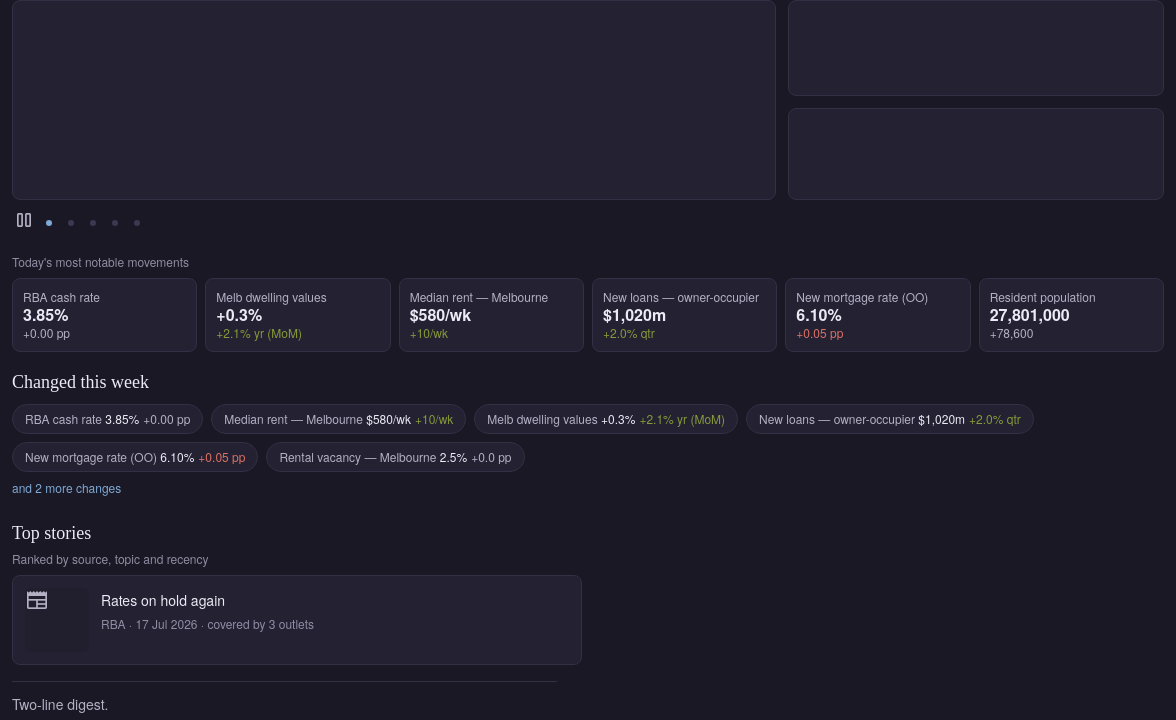
Test case: headline conveyor › reduced motion: no auto-advance, manual controls still work
The width and height of the screenshot is (1176, 720).
What coordinates should you click on to do the following:
click the button named "Show finding 2 of 5"
I would click on:
 (71, 223)
Its box is [62, 214, 80, 232].
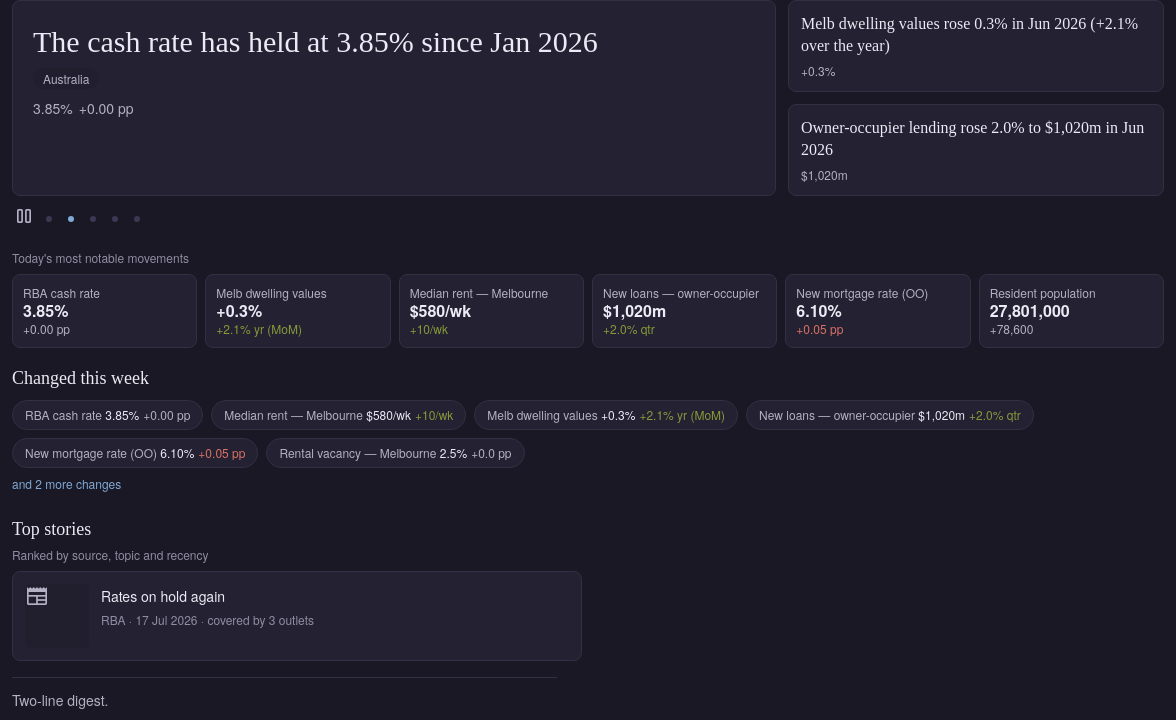
expect the heading with test id "lead-finding" shows "cash rate": met, box [33, 25, 598, 58]
